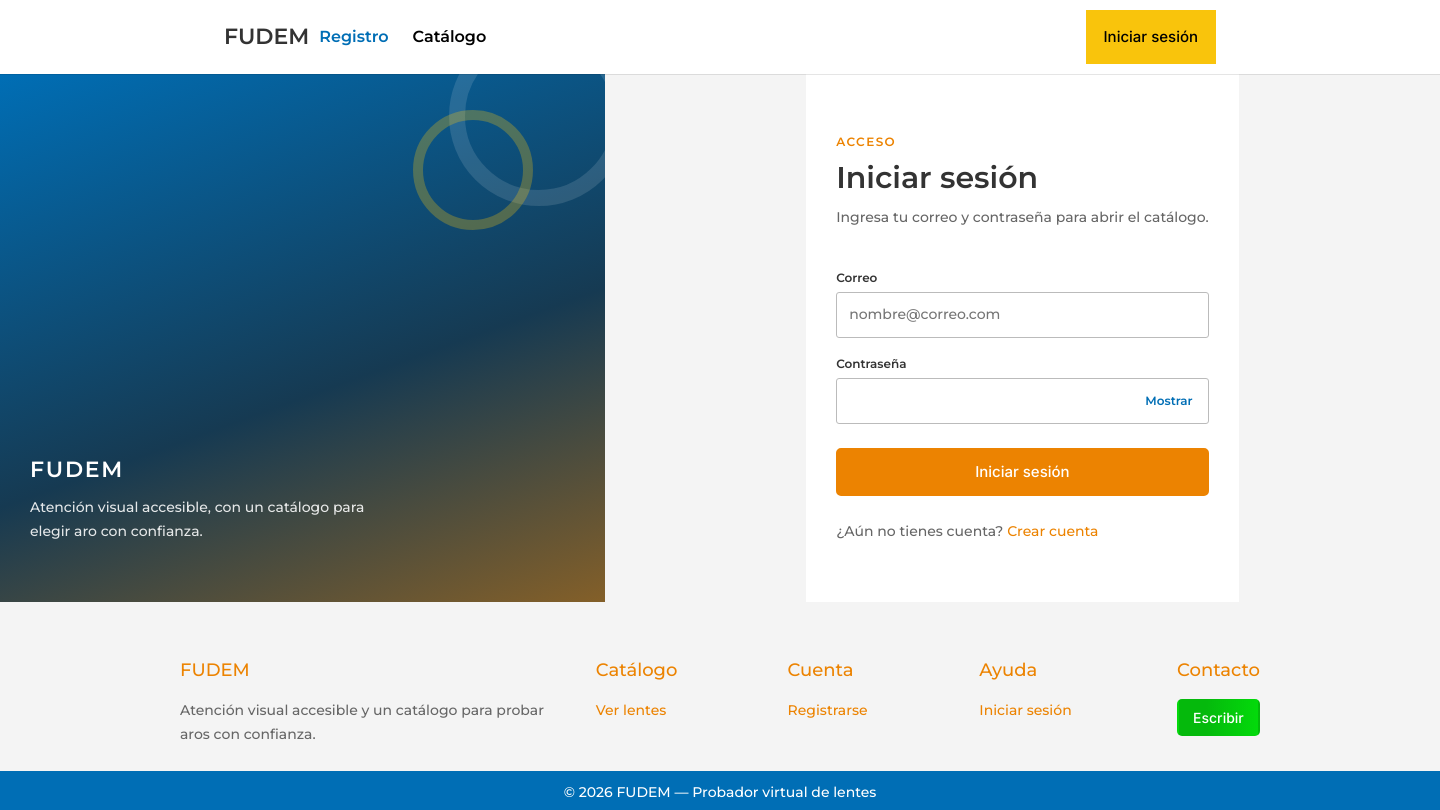
Test: flujo de acceso › muestra el error de Supabase con credenciales incorrectas
Expected: the heading "Iniciar sesión" is shown, [836,159,1038,196]
In the field labelled "Correo": (1022, 315) [836,292,1209,338], type "ana@test.com"
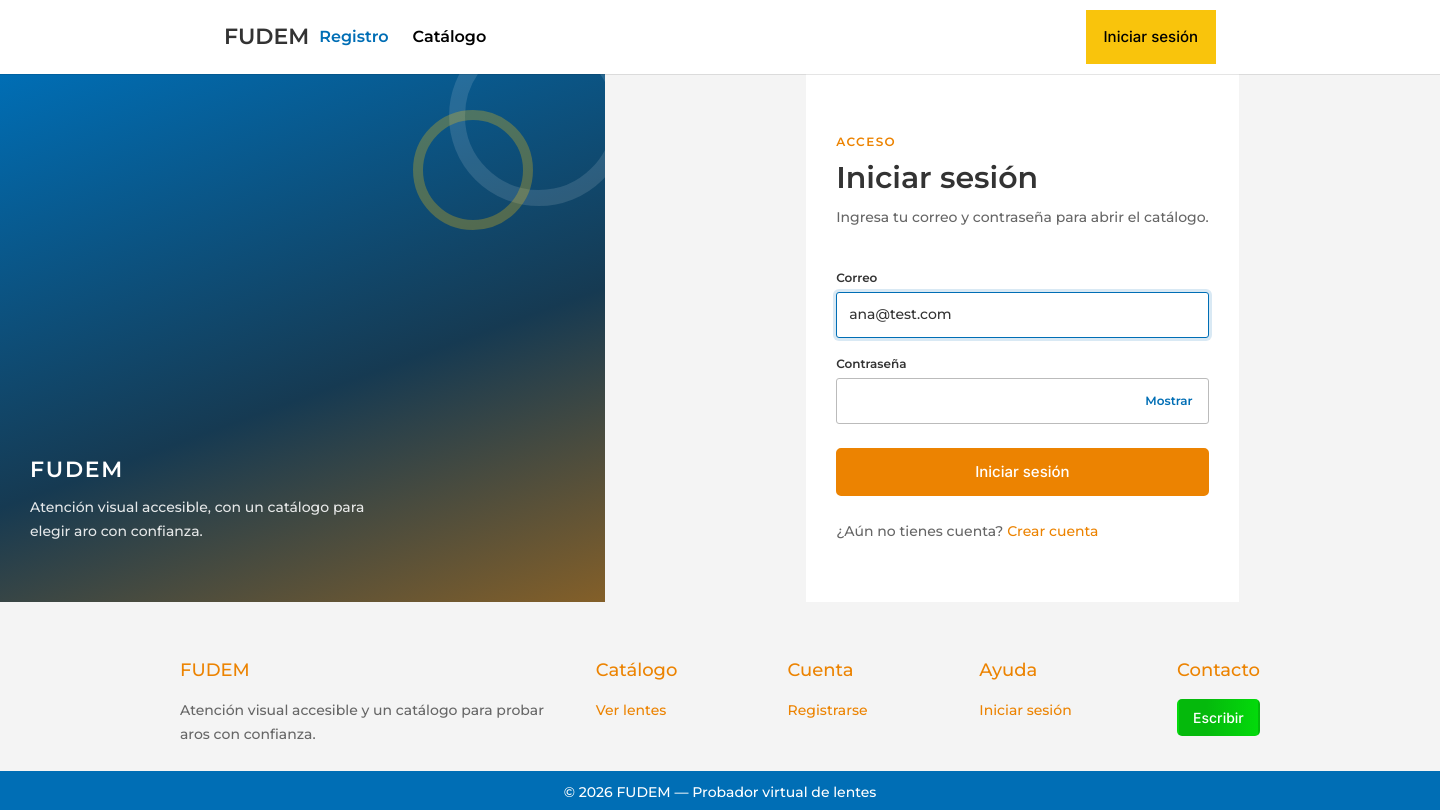
In the password field labelled "Contraseña": (1022, 401) [836,378,1209,424], type "incorrecta"
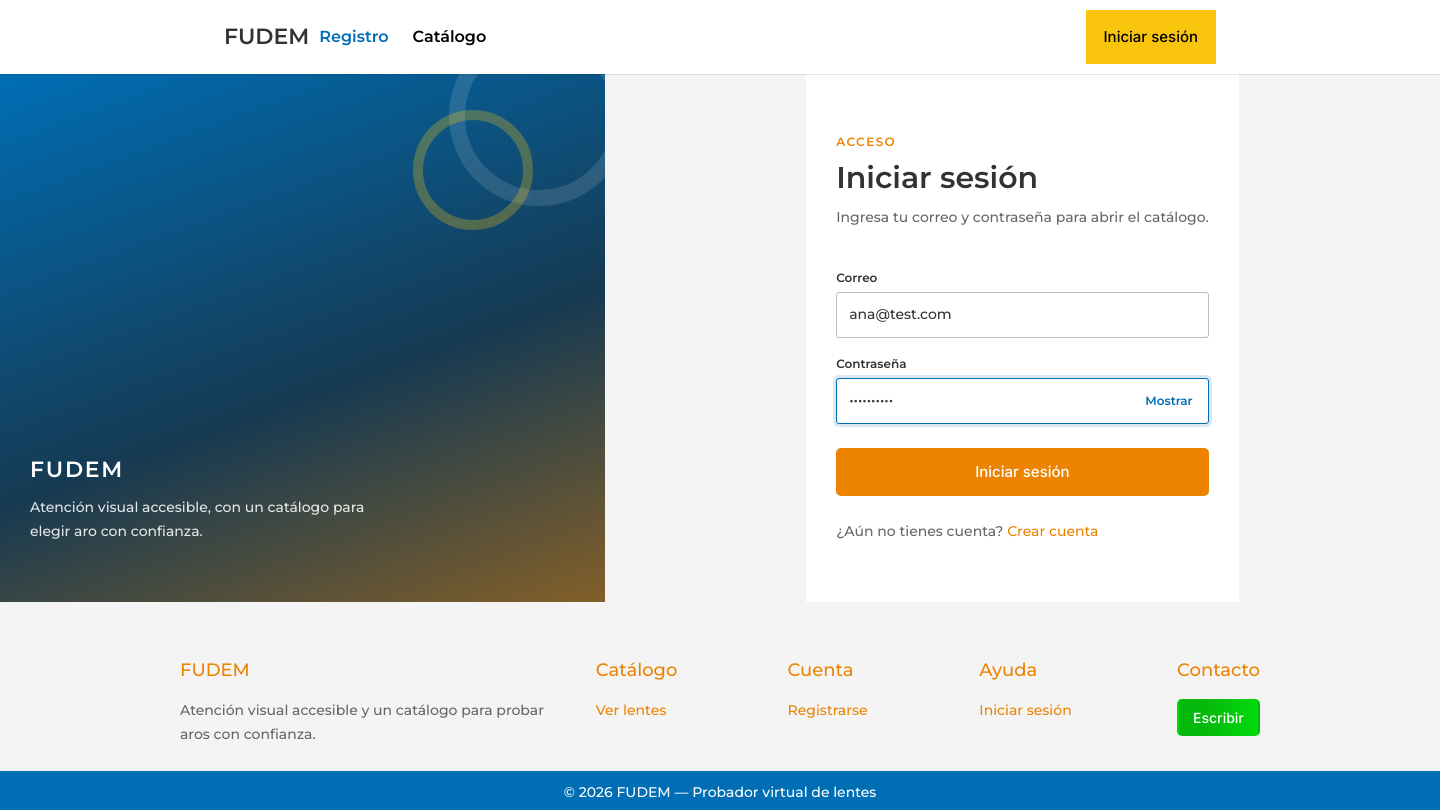
Click the button "Iniciar sesión": (1022, 472) [836,448,1209,496]
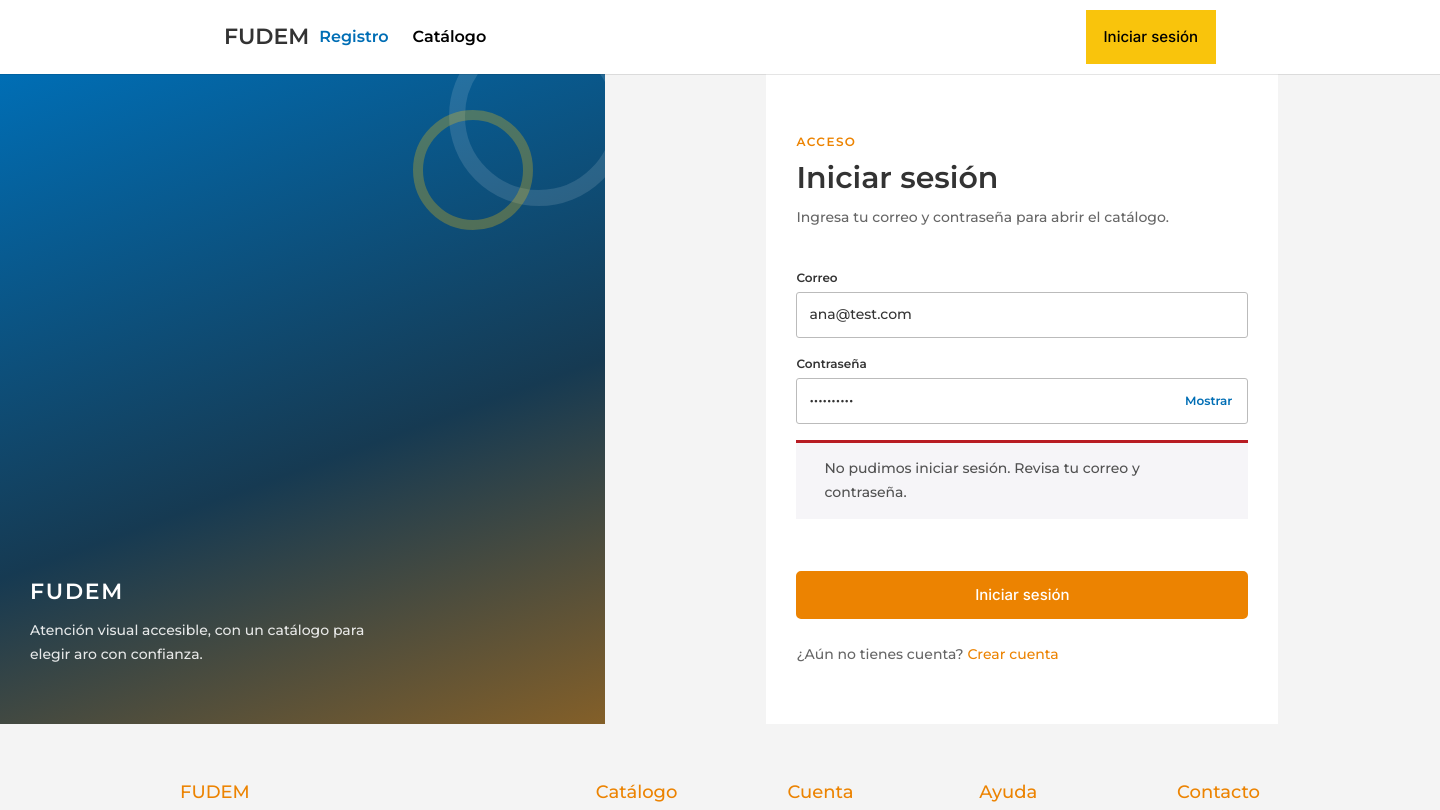
Expected: the message reads "No pudimos iniciar sesión. Revisa tu correo y contraseña.", [824,459,1140,501]
